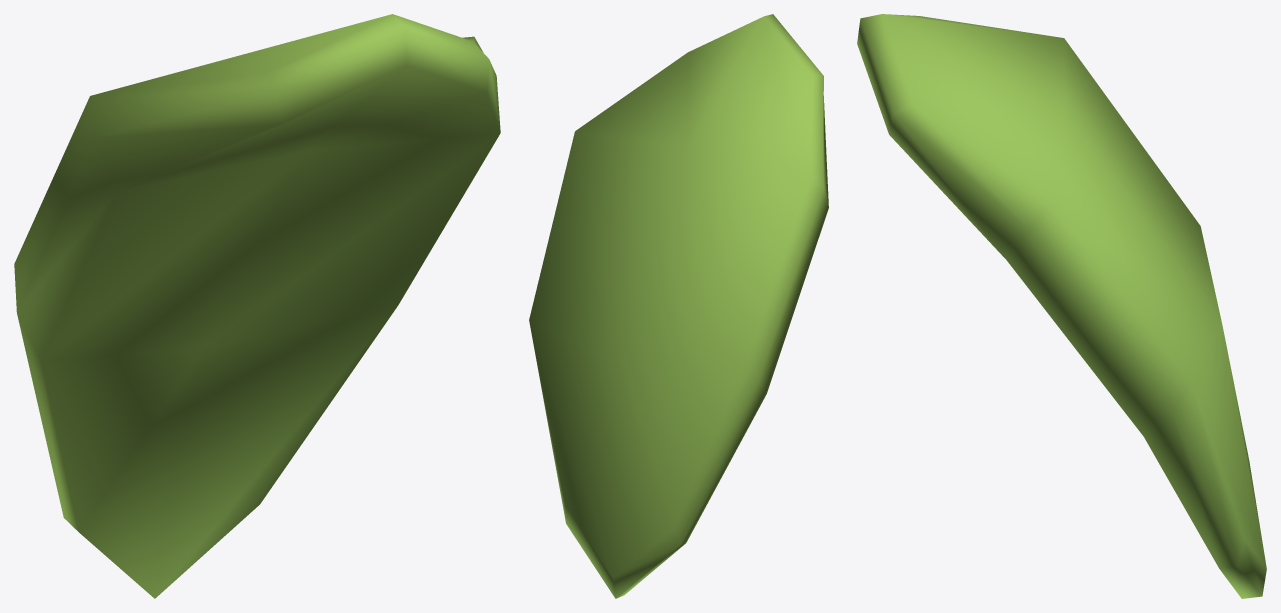
The model's file is groundLeaf.glb.
3 renders of one model, left to right at view 1: azimuth 30°, elevation 25°; view 2: azimuth 150°, elevation 25°; view 3: azimuth 270°, elevation 25°, orthographic. The views are drawn at different scales.
Visible parts, largest first — view 1: groundLeaf; view 2: groundLeaf; view 3: groundLeaf.
Boxes of the visible parts, bbox=[...] form: groundLeaf: bbox=[14, 14, 500, 598]; groundLeaf: bbox=[529, 14, 828, 598]; groundLeaf: bbox=[857, 14, 1266, 598].
Size of the model in its own units: 0.051 by 0.0929 by 0.0587.
1 material, 1 textured.
